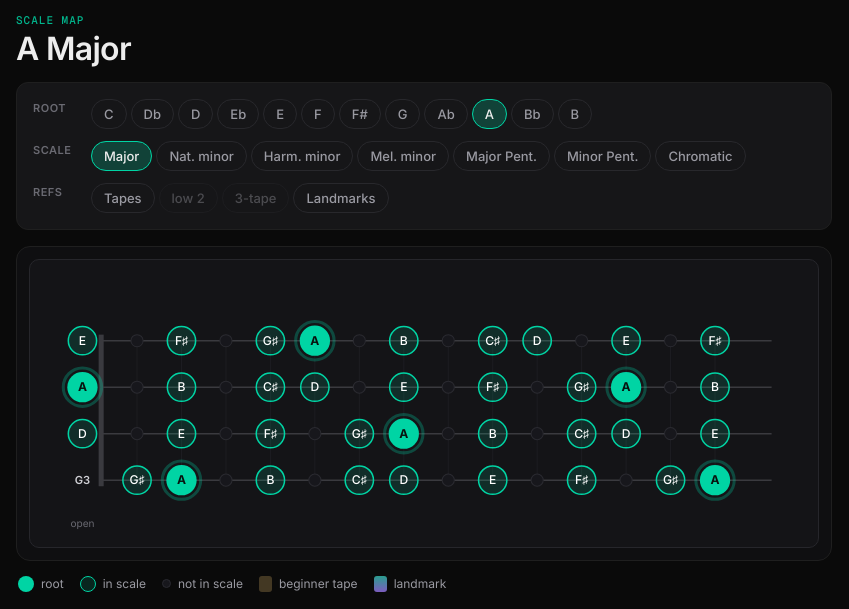
Test case: §9.1 / §13 — pc-1 root pill + H1 relabel by scale family (S15) › toggling Nat. minor → Major flips the pc-1 pill back from C♯ to Db
Click the radio button labelled "Db" at (152, 114), box [130, 99, 174, 129]
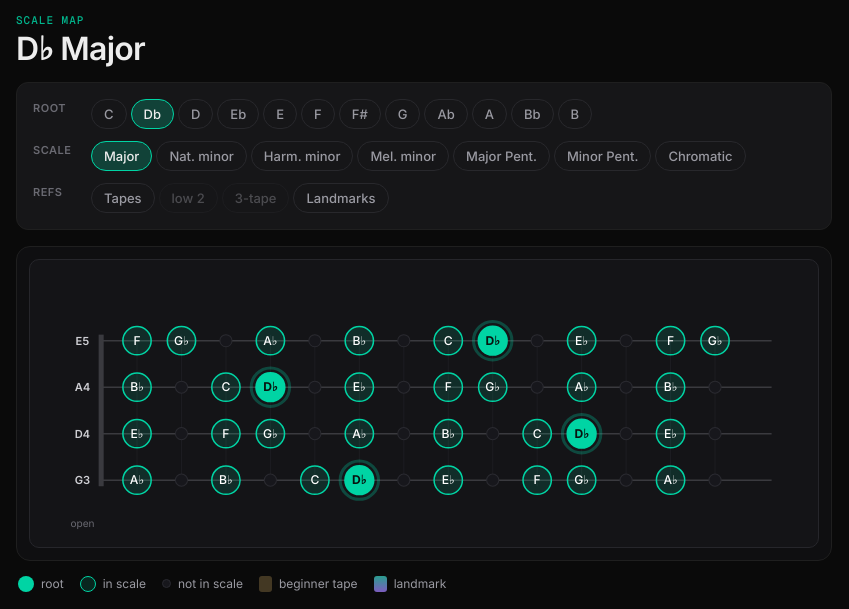
Click the radio button labelled "Nat. minor" at (202, 156), box [156, 141, 247, 171]
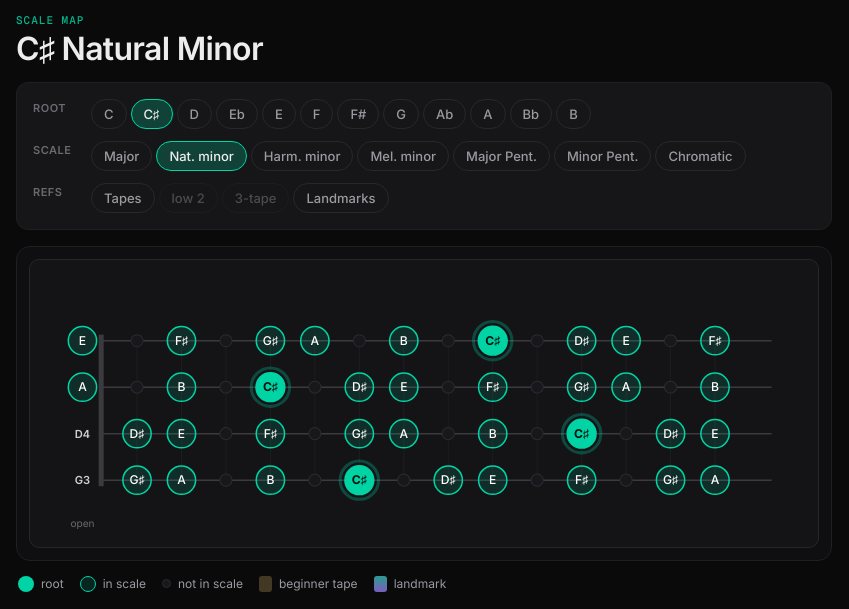
expect the radio button labelled "C♯" is shown: met, box [130, 99, 172, 129]
# Family toggles back: minor → major re-spells C♯ → Db (no double accidental either way).
Click the radio button labelled "Major" at (122, 156), box [91, 141, 152, 171]
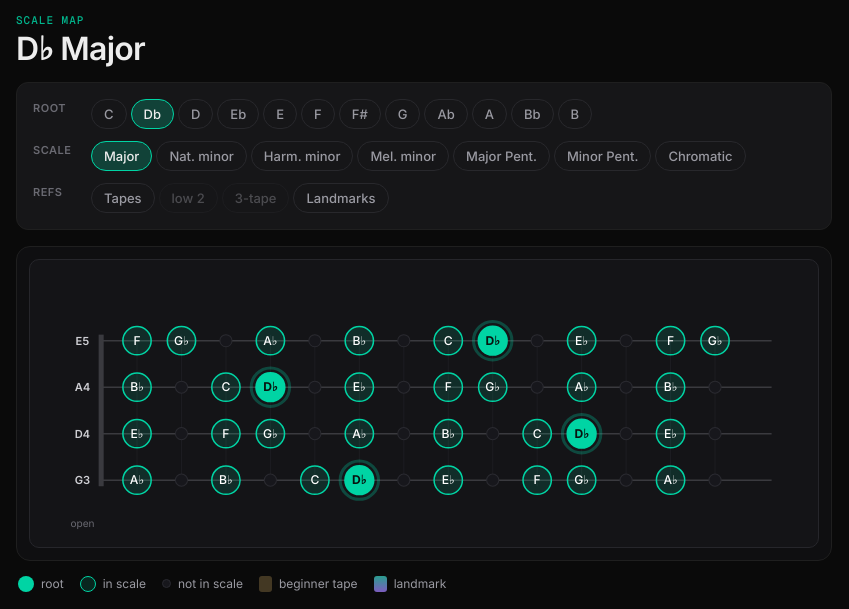
expect the radio button labelled "Db" is shown: met, box [130, 99, 174, 129]
expect the heading "C♯" is gone: met
